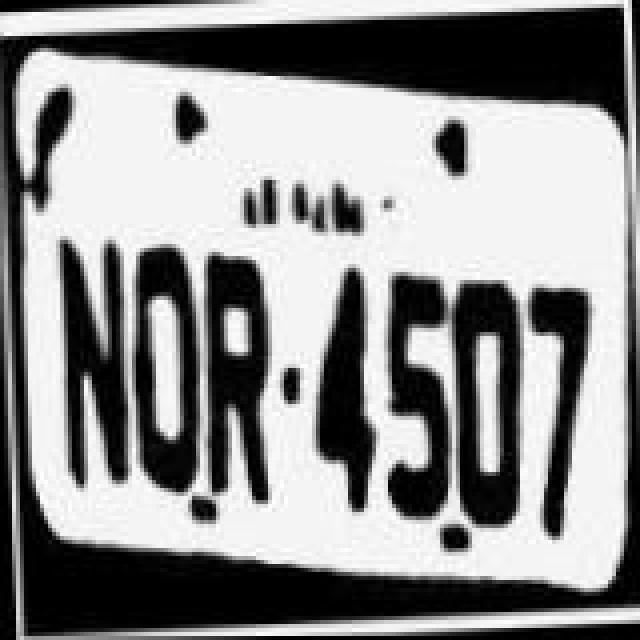4: (300, 258, 380, 534)
5: (368, 248, 456, 528)
7: (520, 248, 604, 548)
N: (46, 220, 138, 512)
O: (442, 242, 526, 534), (124, 220, 204, 500)
R: (196, 248, 284, 512)
